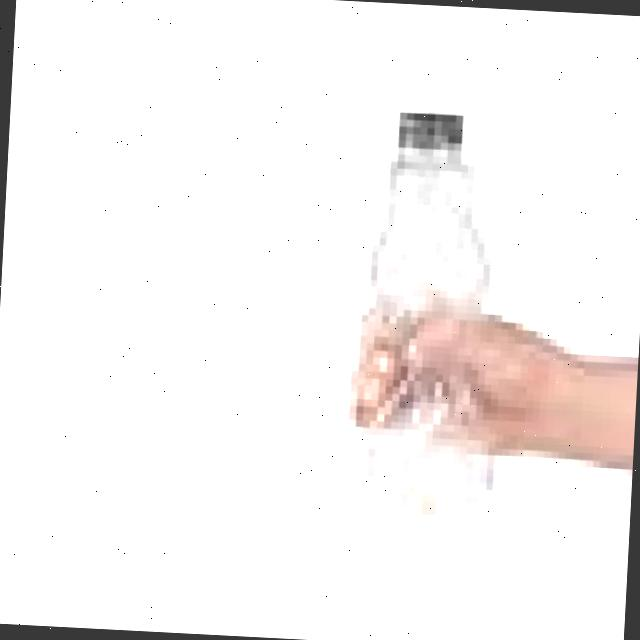trash: (334, 98, 524, 524)
